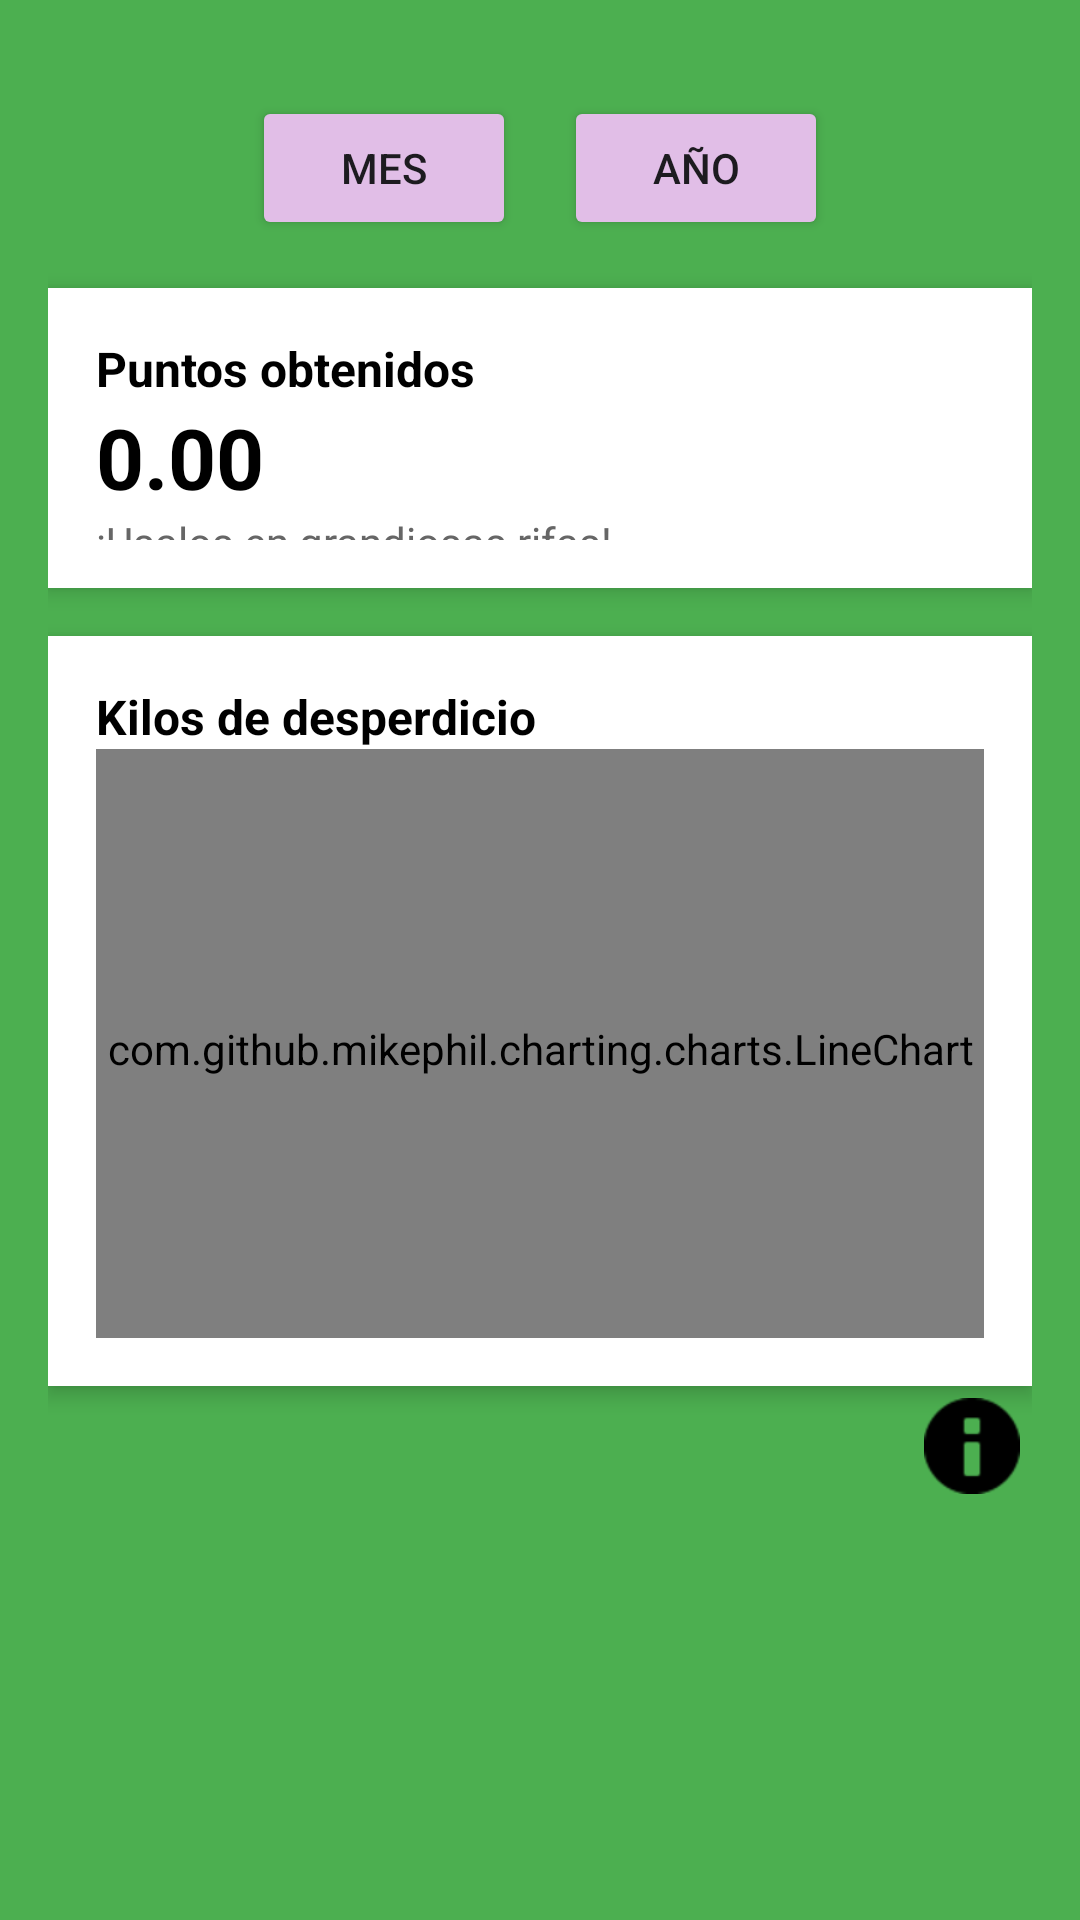

Where icons sit on this 1080 × 1920 app screen, as (x1, y1, x2, y2):
info: (924, 1398, 1020, 1494)
